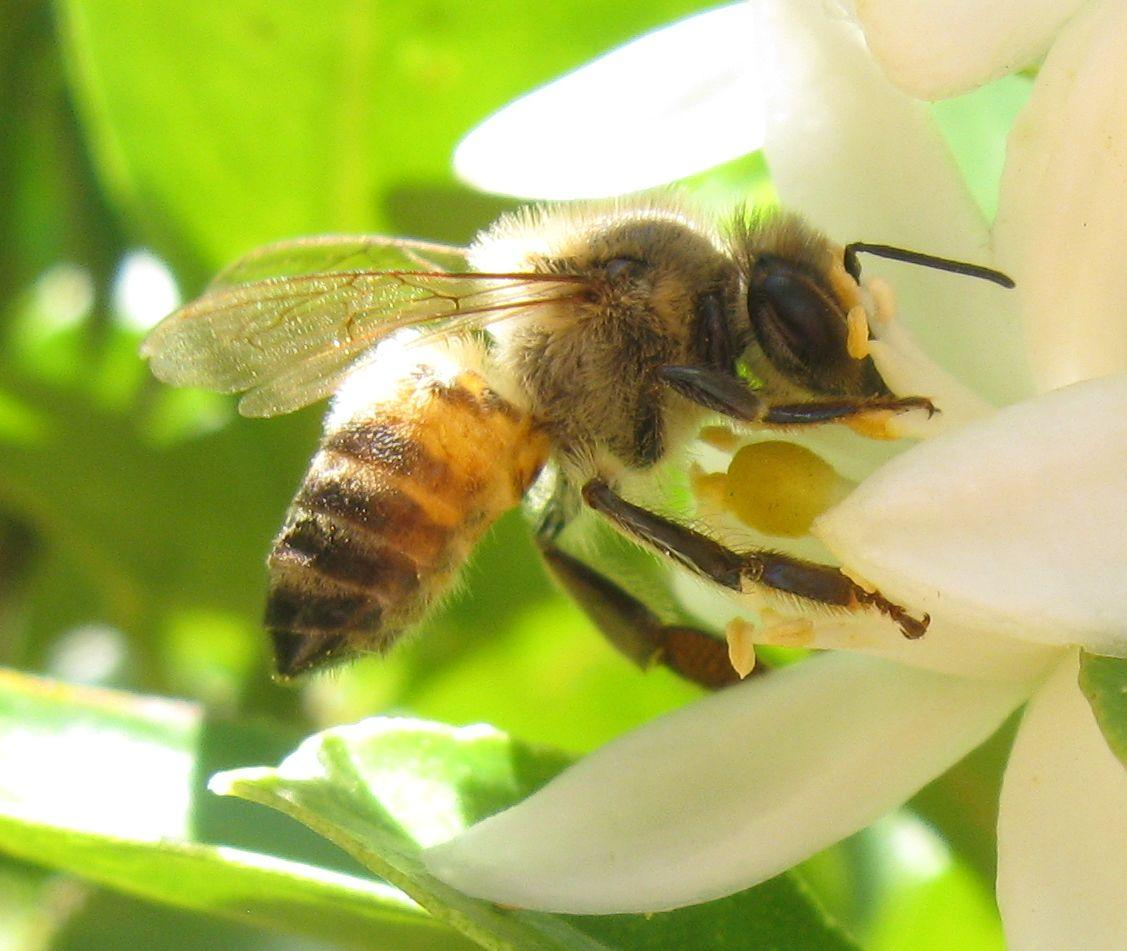Apis-mellifera-scutellata: (139, 126, 982, 712)
